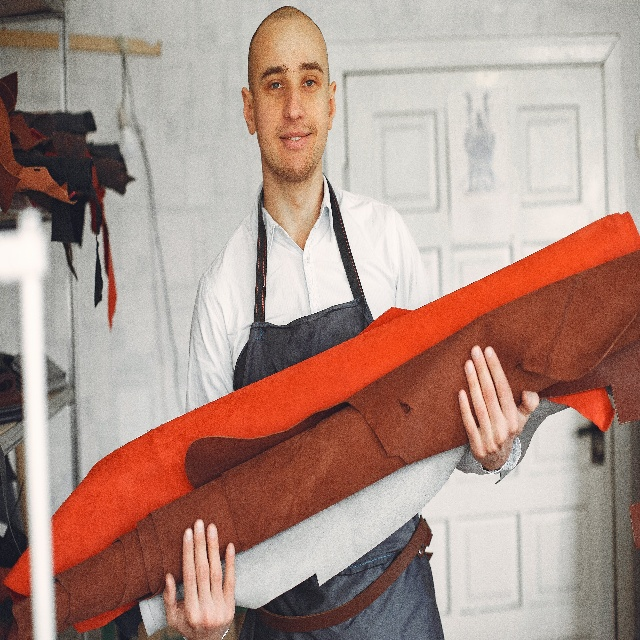Sin_guantes: (459, 342, 539, 472), (161, 518, 236, 640)
